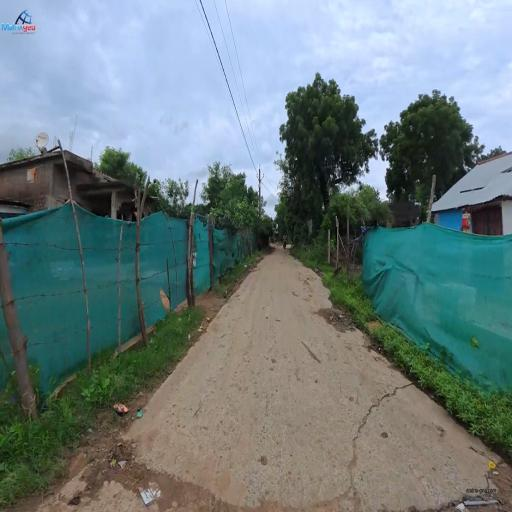longitudinal_crack: (343, 369, 410, 483)
